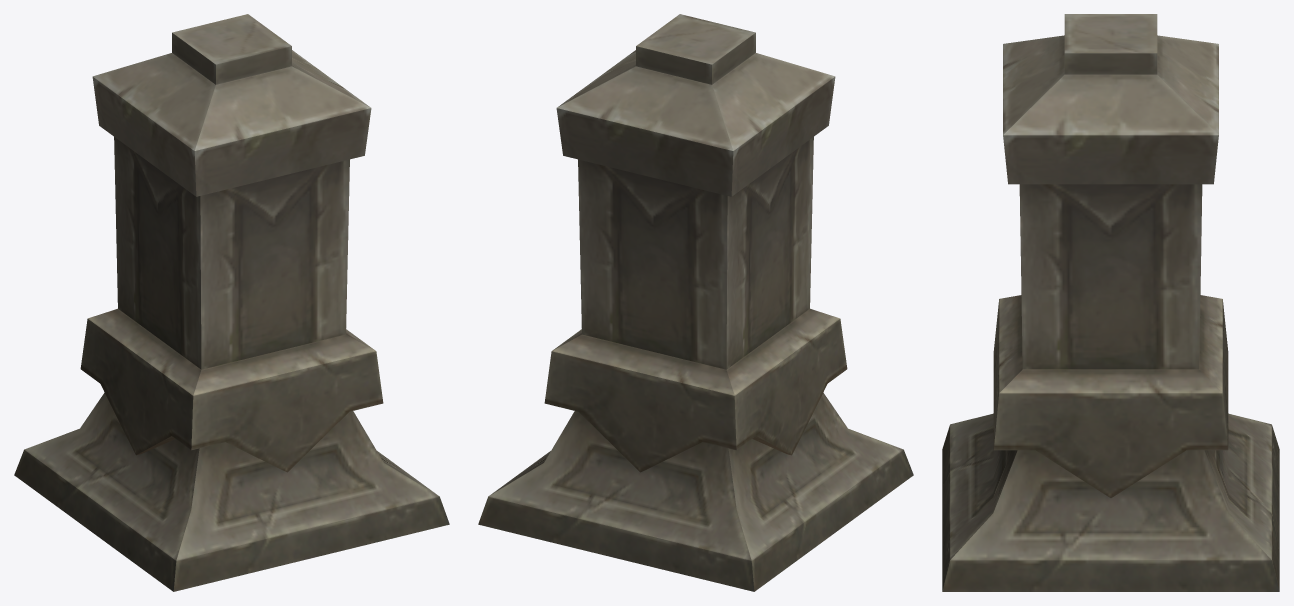
The model's file is common_city_shiduan01.FBX.
The picture shows the model from 3 angles, left to right: view 1: azimuth 30°, elevation 25°; view 2: azimuth 150°, elevation 25°; view 3: azimuth 270°, elevation 25°; orthographic projection. The views are drawn at different scales.
Parts seen in each view (by area): view 1: Common_city_shiduan01; view 2: Common_city_shiduan01; view 3: Common_city_shiduan01.
Boxes of the visible parts, bbox=[...] form: Common_city_shiduan01: bbox=[14, 14, 449, 591]; Common_city_shiduan01: bbox=[478, 14, 913, 591]; Common_city_shiduan01: bbox=[942, 14, 1279, 591].
Bounding box in the file's own units: 1.51 × 1.51 × 2.4.
